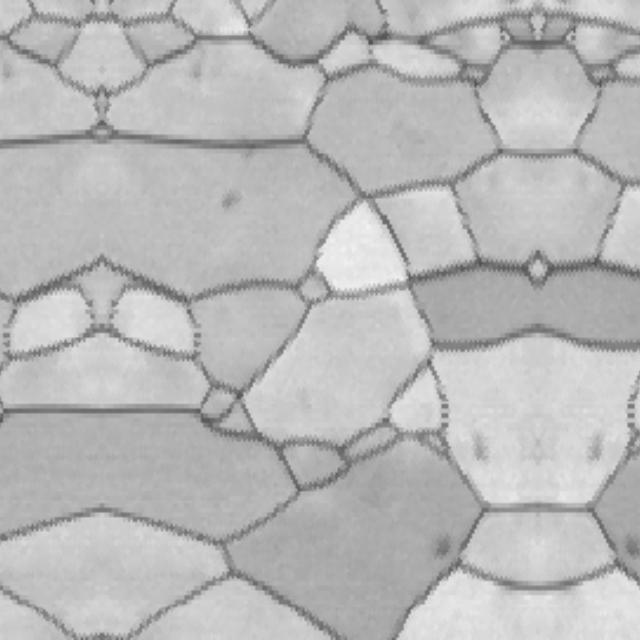good_void: (217, 186, 247, 211), (473, 435, 494, 467), (584, 435, 605, 467), (428, 537, 454, 558), (624, 537, 640, 557)
